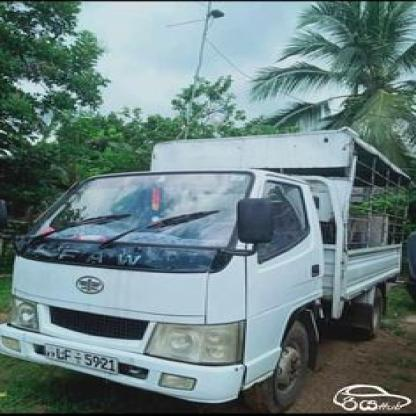Lorry front: (0, 122, 416, 410)
number plate: (52, 346, 118, 372)
